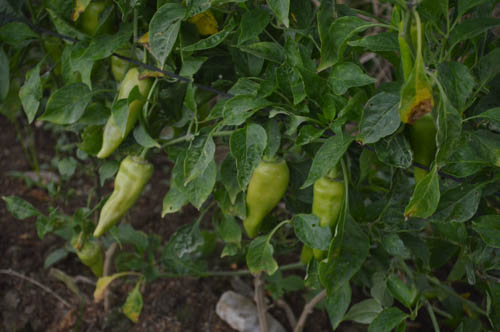ChiliPepper: (91, 155, 148, 235), (102, 70, 152, 154), (237, 157, 283, 243), (302, 177, 343, 259), (400, 115, 440, 166)
